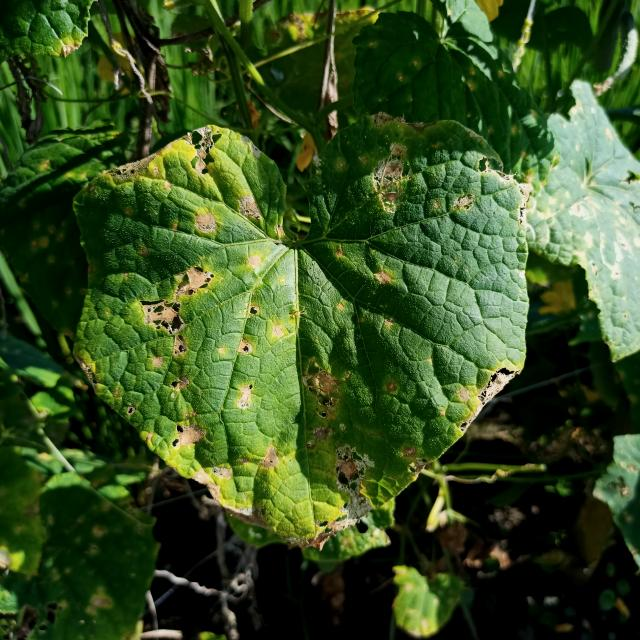disease_cucumber: (89, 119, 498, 536)
